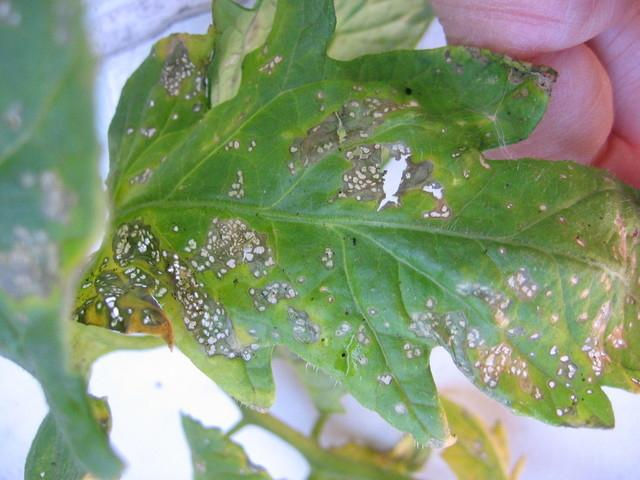Tomato Septoria leaf spot: (59, 10, 614, 420)
